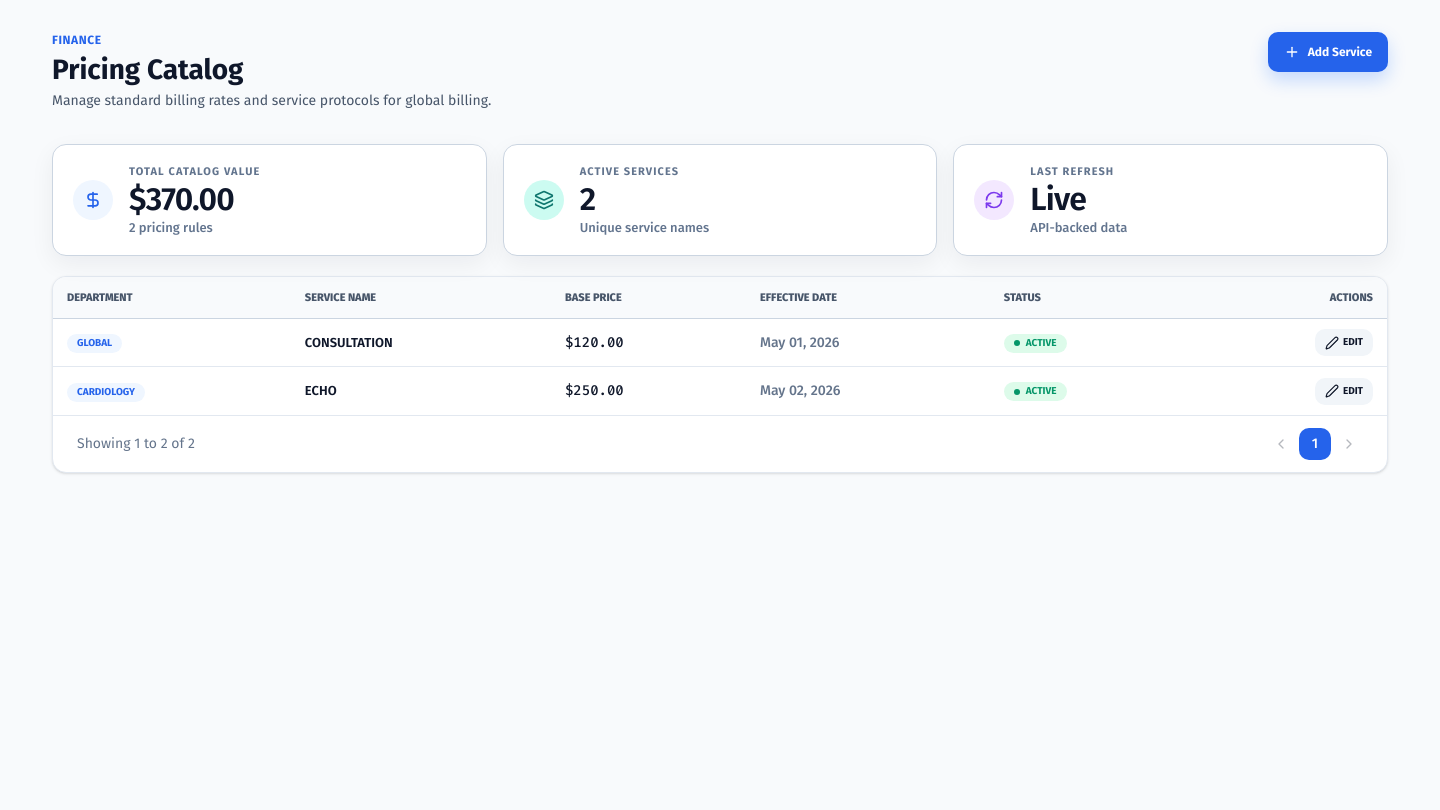
it: PricingManagementPage › creates a pricing rule with the backend request shape
Expected: the text "CONSULTATION" is shown, [291, 319, 551, 367]
Click the button "Add Service" at (1328, 52), box [1268, 32, 1388, 72]
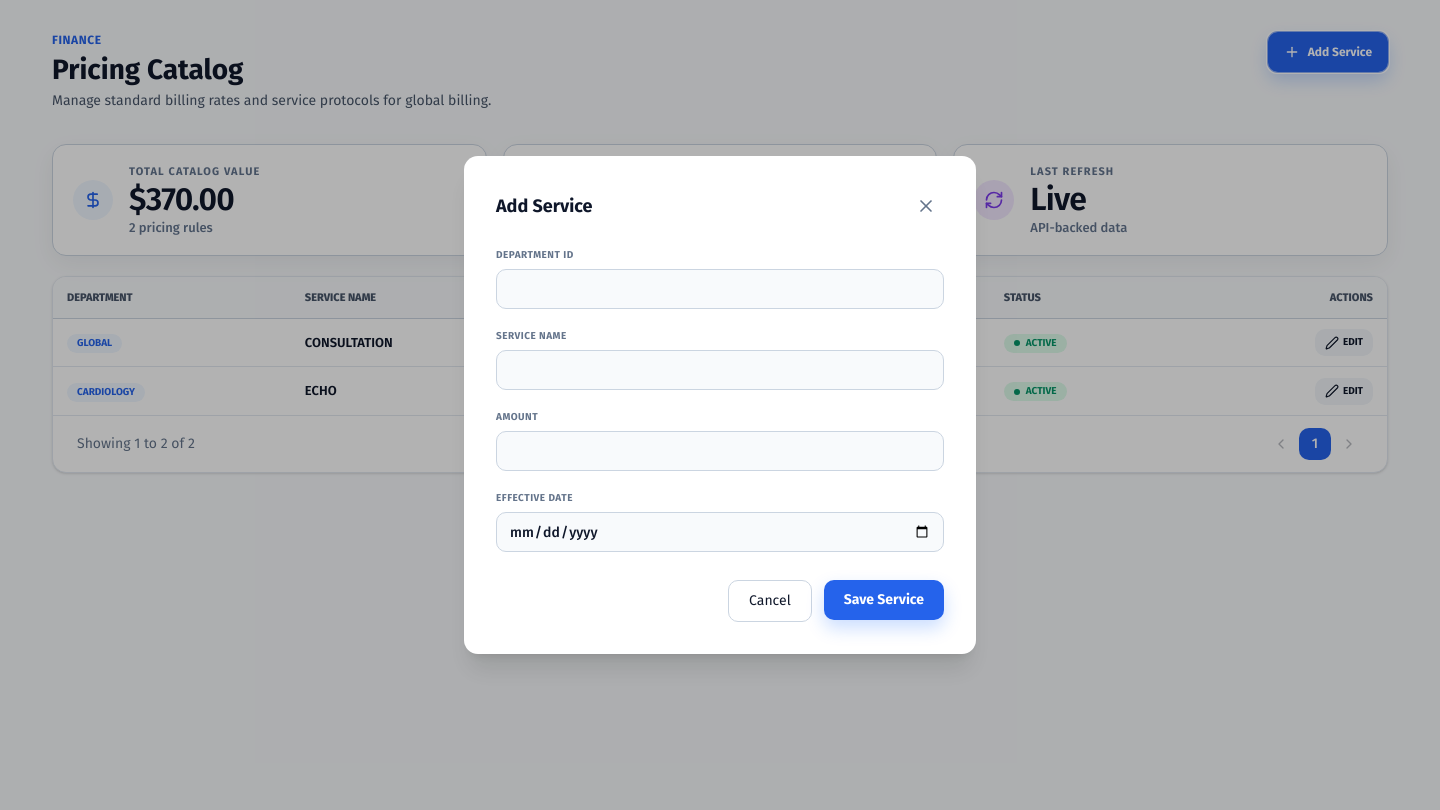
Type "department-2" into the field named "Department ID" at (720, 289), box [496, 269, 944, 309]
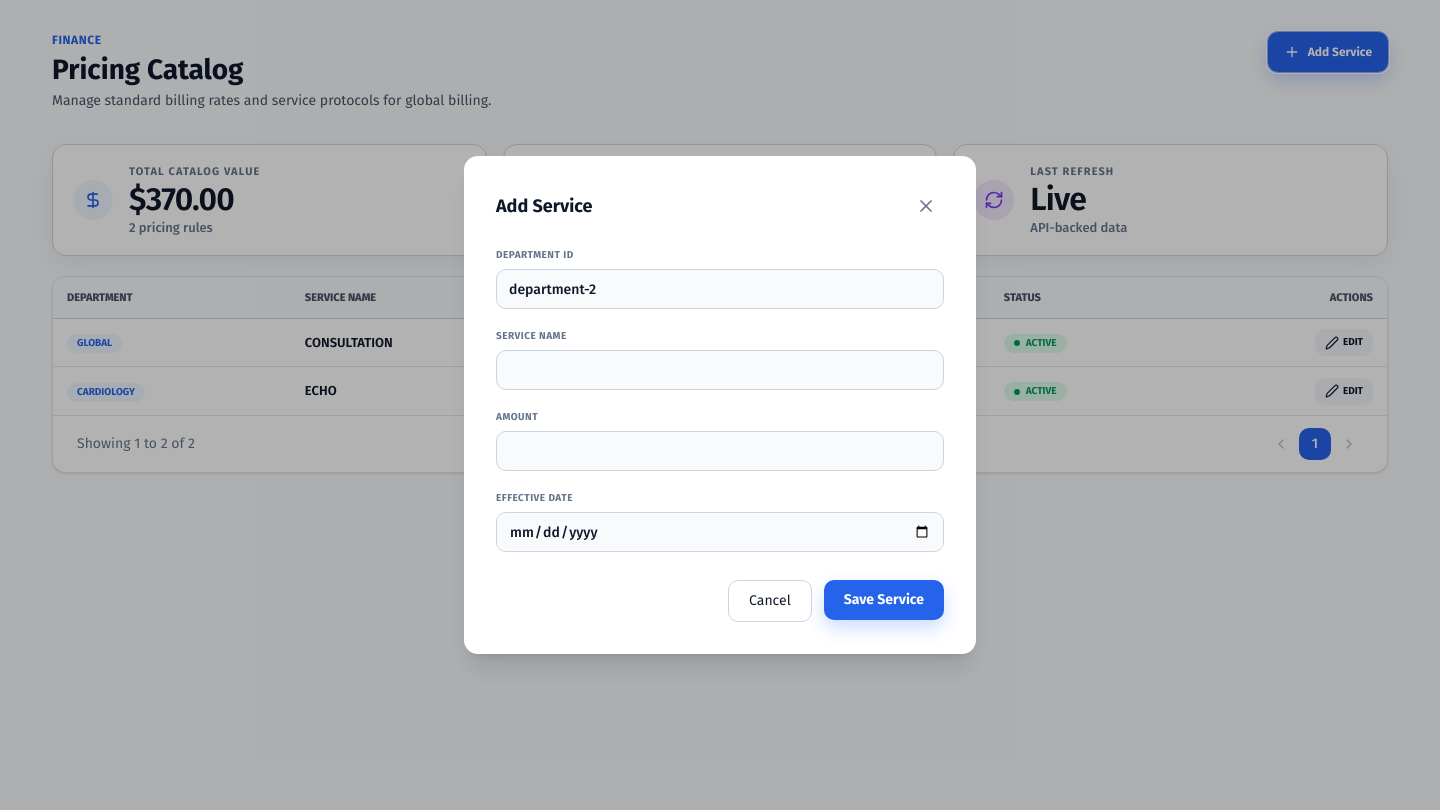
Type "FOLLOW_UP" into the field named "Service Name" at (720, 370), box [496, 350, 944, 390]
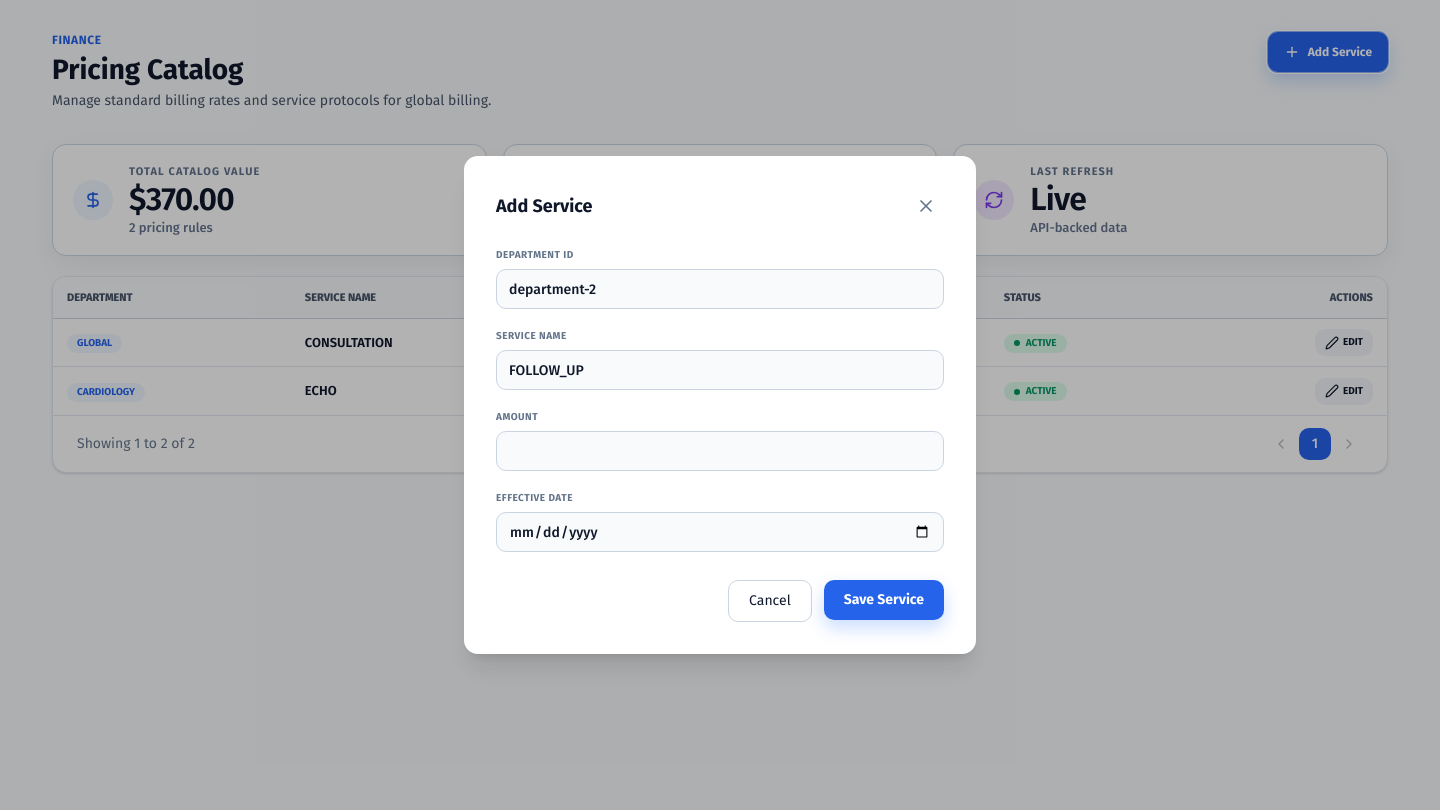
Type "90" into the number field named "Amount" at (720, 451), box [496, 431, 944, 471]
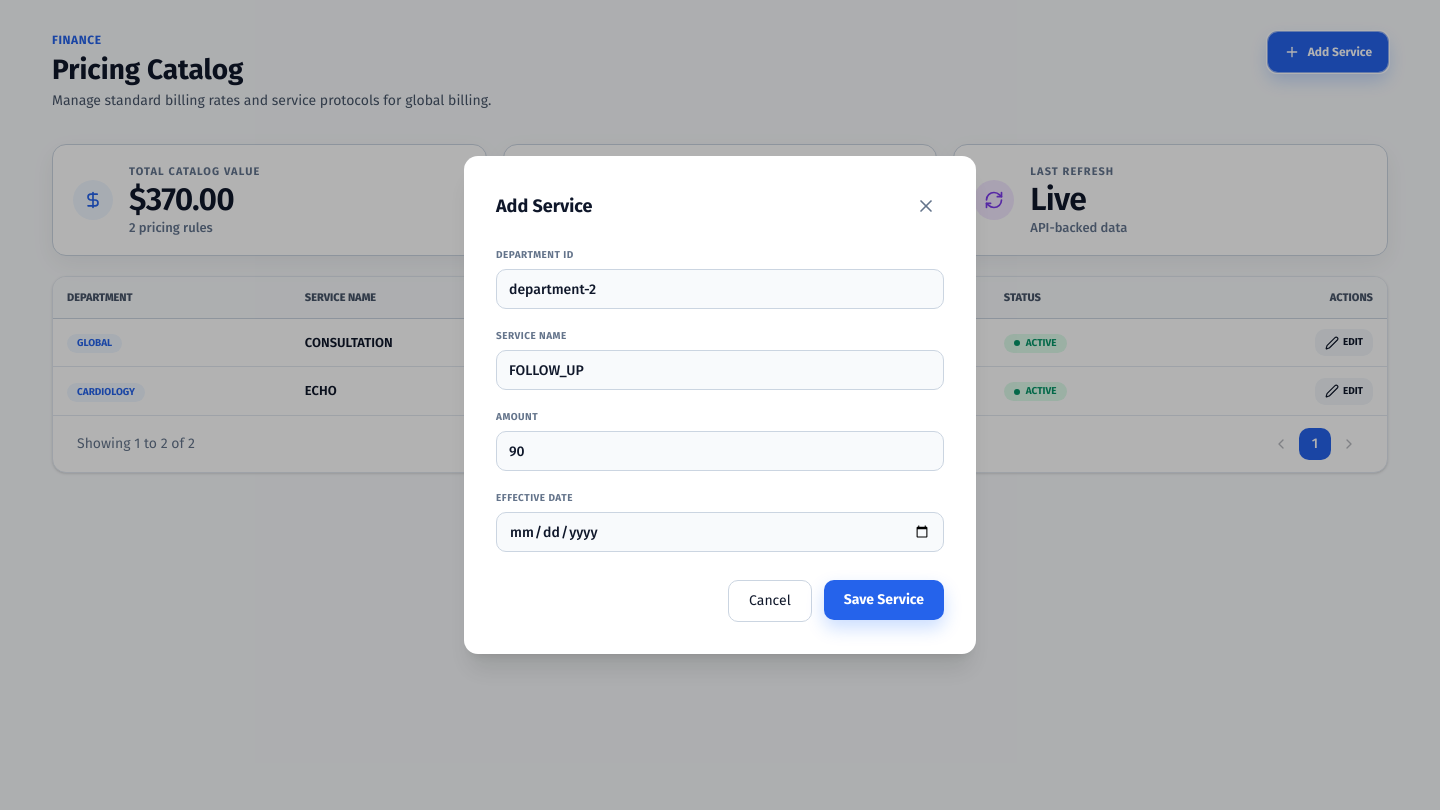
Type "2026-05-03" into the date field named "Effective Date" at (720, 532), box [496, 512, 944, 552]
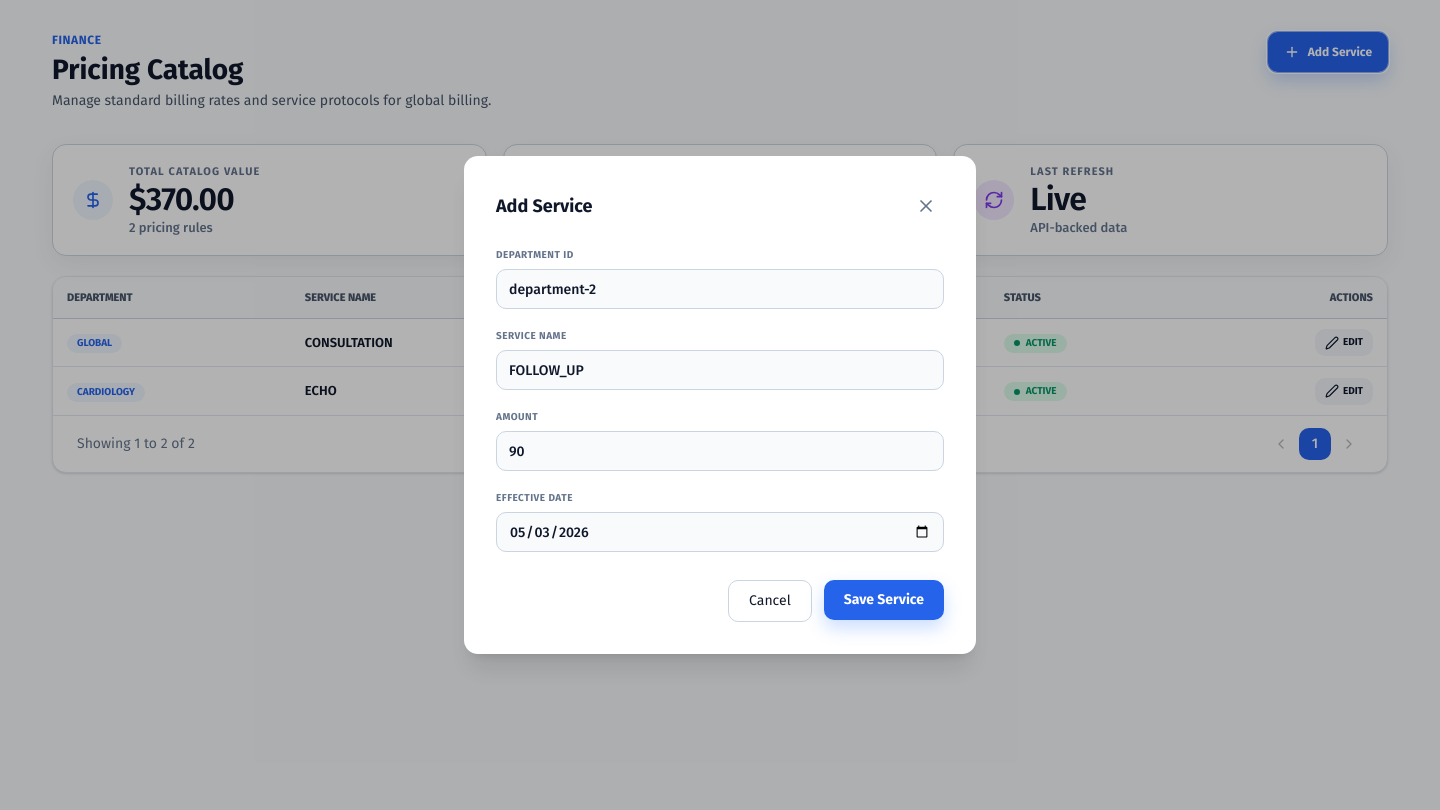
Click the button "Save Service" at (884, 600), box [824, 580, 944, 620]
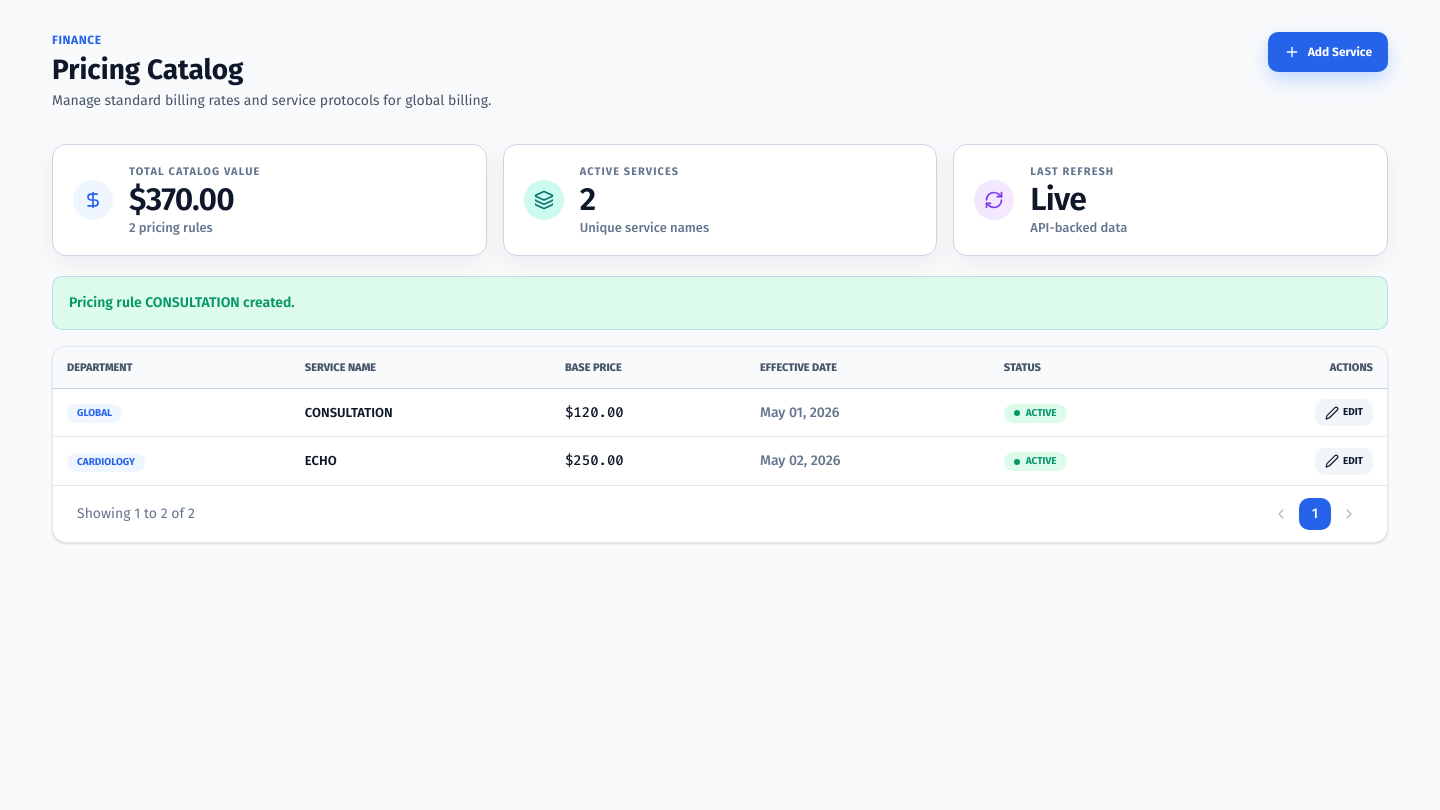
Expected: the message shows "created", [69, 294, 295, 311]
